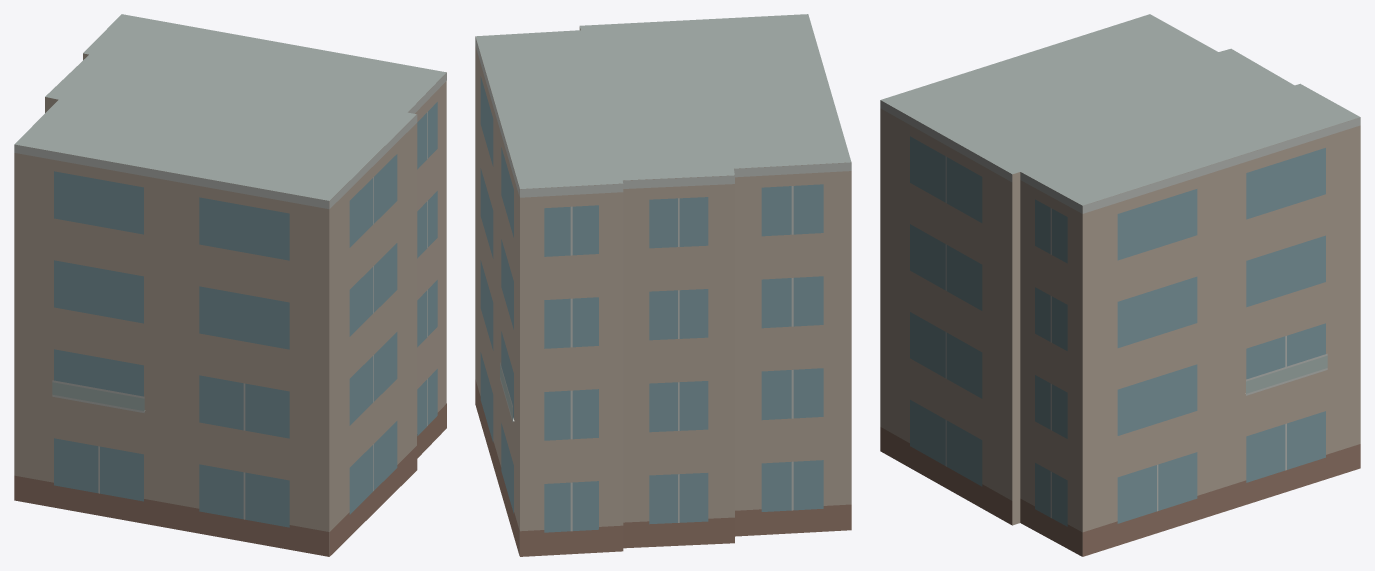
File: survey-upis-32706244.glb
The picture shows the model from 3 angles, left to right: view 1: azimuth 30°, elevation 25°; view 2: azimuth 150°, elevation 25°; view 3: azimuth 270°, elevation 25°; orthographic projection. The views are drawn at different scales.
Visible parts, largest first — view 1: survey-upis-32706244.tmp; view 2: survey-upis-32706244.tmp; view 3: survey-upis-32706244.tmp.
Boxes of the visible parts, x1=… form: survey-upis-32706244.tmp: x1=14, y1=14, x2=446, y2=556; survey-upis-32706244.tmp: x1=475, y1=14, x2=851, y2=556; survey-upis-32706244.tmp: x1=880, y1=14, x2=1360, y2=556.
Size of the model in its own units: 12.19 by 10.4 by 12.9.
